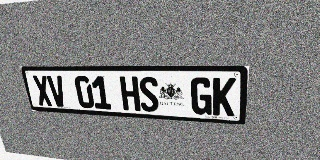0: (73, 76, 95, 109)
1: (90, 76, 111, 109)
G: (191, 77, 212, 115)
H: (119, 76, 141, 111)
K: (212, 77, 236, 116)
S: (138, 77, 159, 112)
V: (46, 76, 68, 107)
X: (32, 75, 53, 106)
